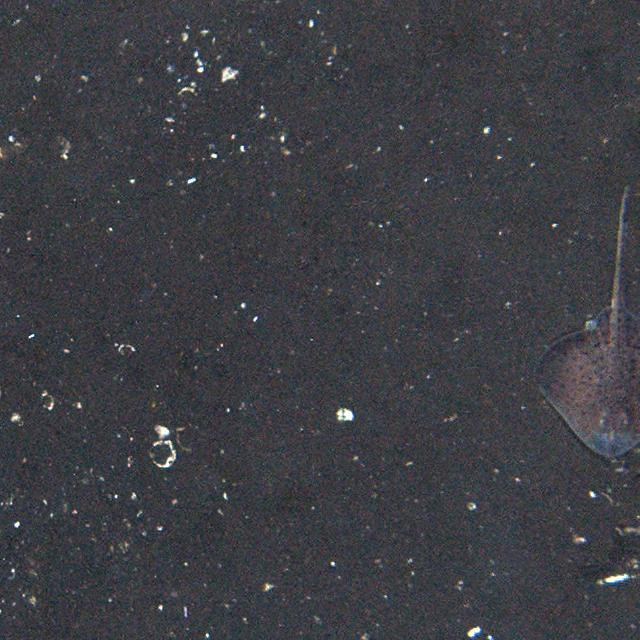skate: (541, 176, 640, 458)
